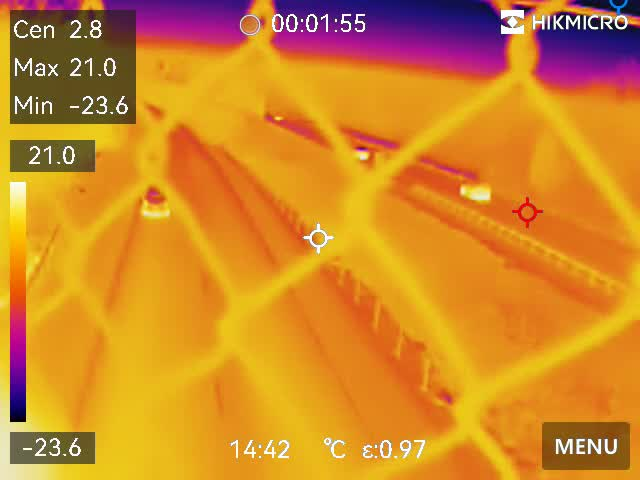vehicle: (137, 181, 173, 222), (454, 178, 497, 205), (349, 148, 371, 163)
